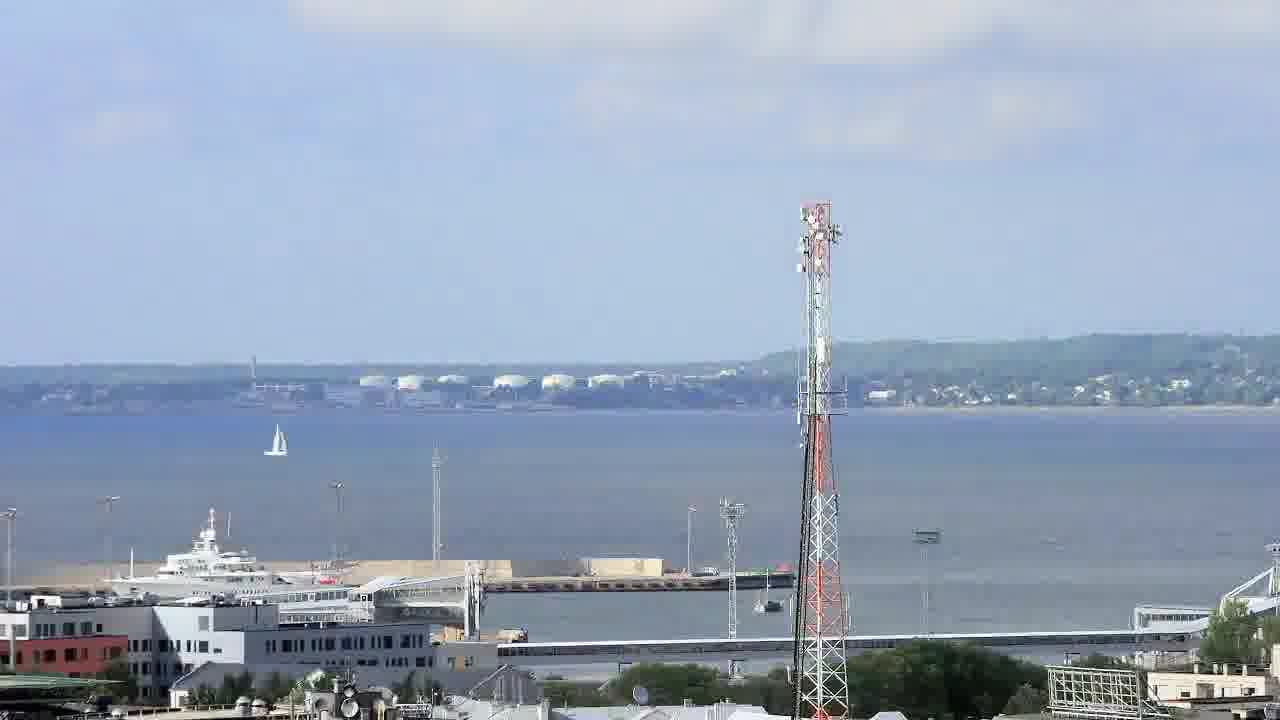type-0: (740, 571, 789, 631)
type-2: (257, 411, 305, 464)
type-3: (98, 503, 361, 603)
